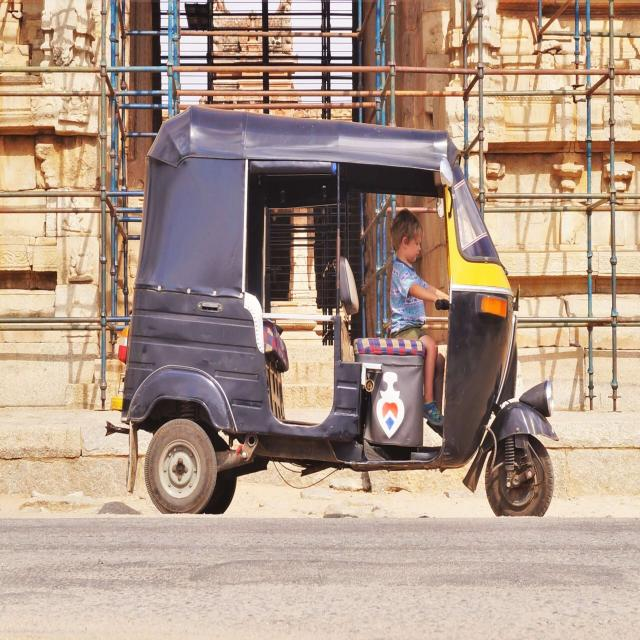autorickshaw: (121, 107, 558, 516)
